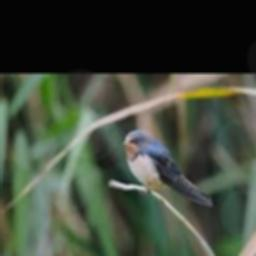Swallow: (124, 130, 215, 206)
